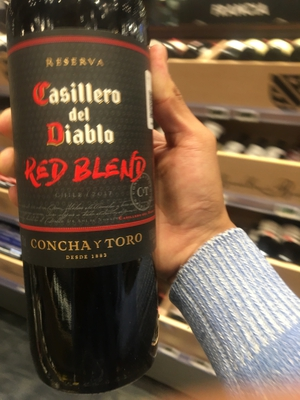casillero del diablo red blend: (9, 7, 168, 380)
